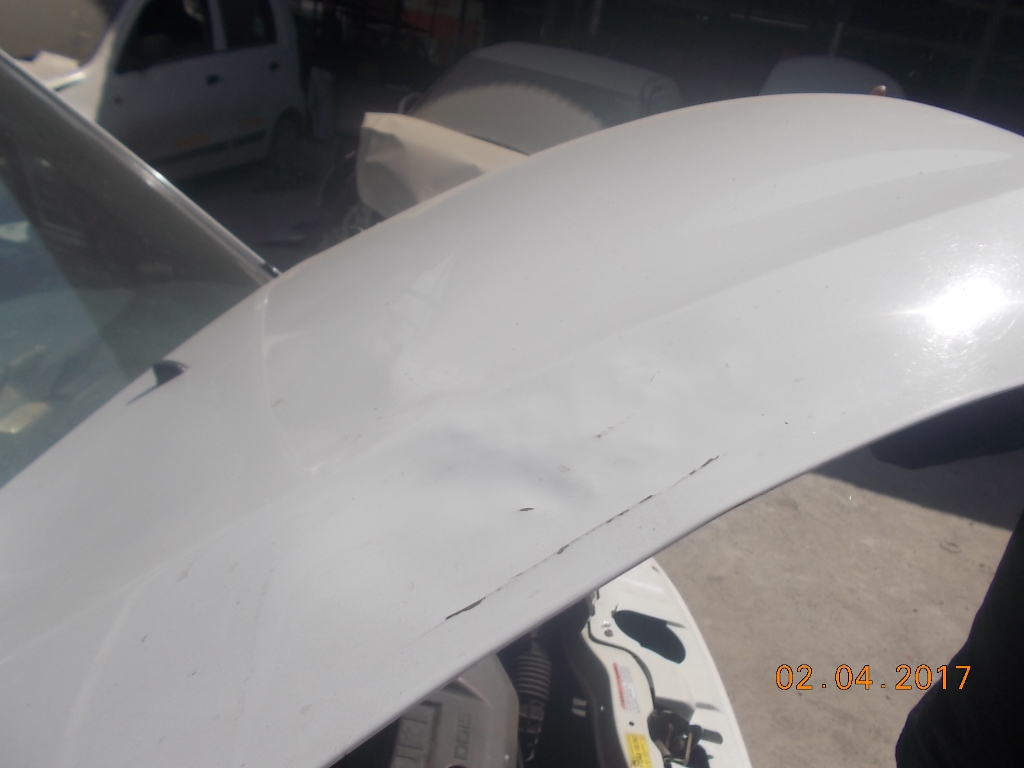Scratch_or_spot: (650, 479, 705, 501), (602, 495, 643, 523), (449, 591, 490, 616), (697, 454, 736, 473), (562, 533, 584, 555)
